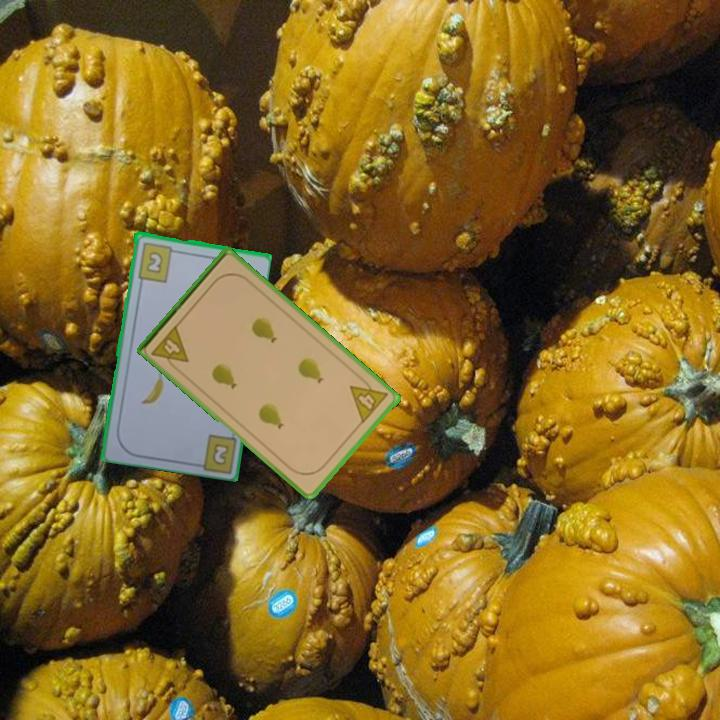2b: (134, 239, 181, 284), (210, 442, 229, 466)
4p: (346, 373, 391, 426), (148, 321, 192, 374)
